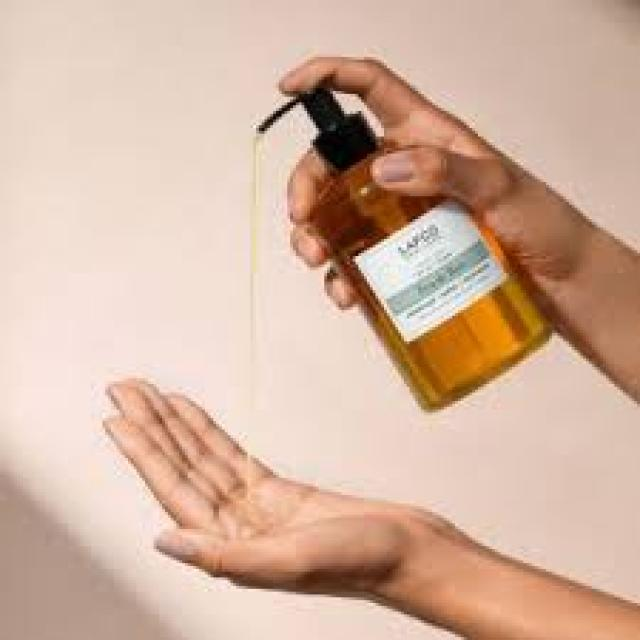liquid soap: (256, 71, 565, 435)
